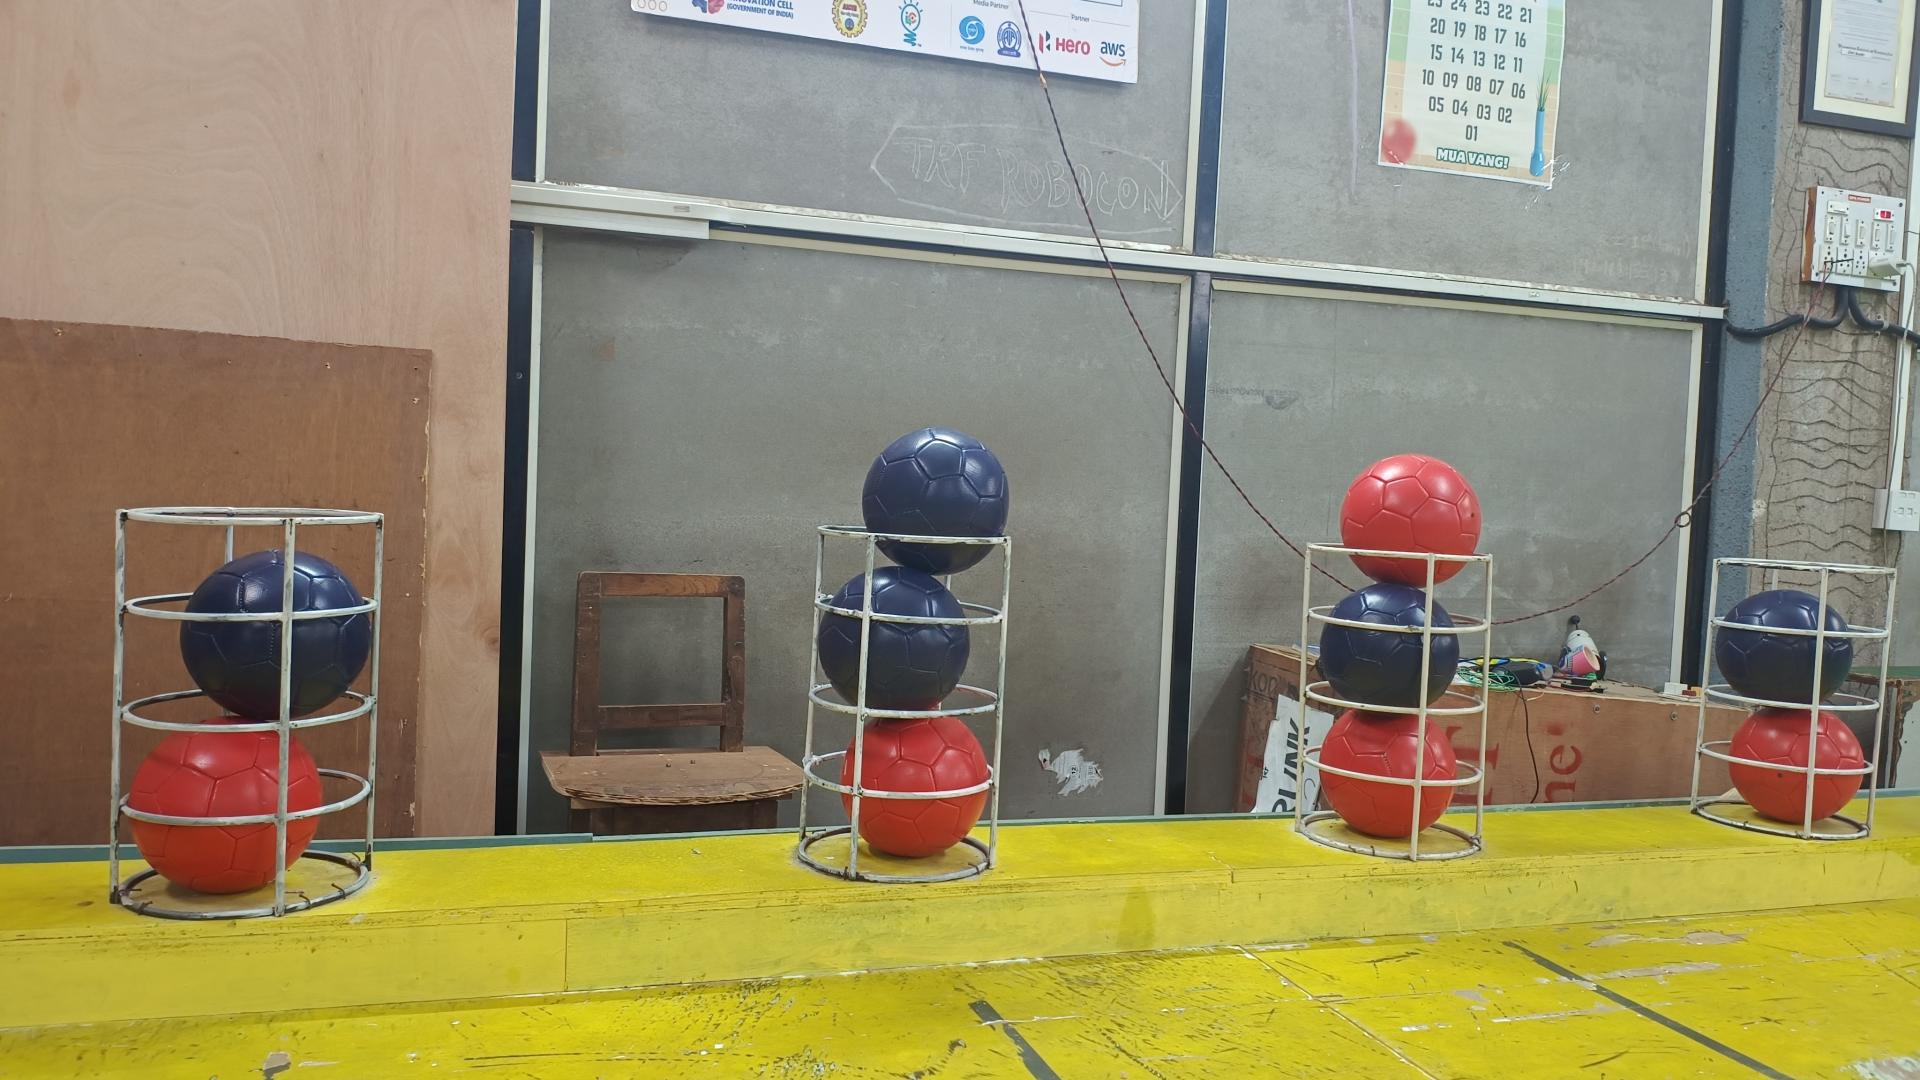dhoka: (179, 547, 375, 720), (818, 566, 972, 712), (862, 427, 1009, 574), (1320, 582, 1458, 708), (1714, 588, 1853, 705)
laale: (128, 716, 323, 897), (840, 716, 990, 858), (1338, 454, 1481, 588), (1320, 708, 1458, 840), (1729, 708, 1867, 825)
